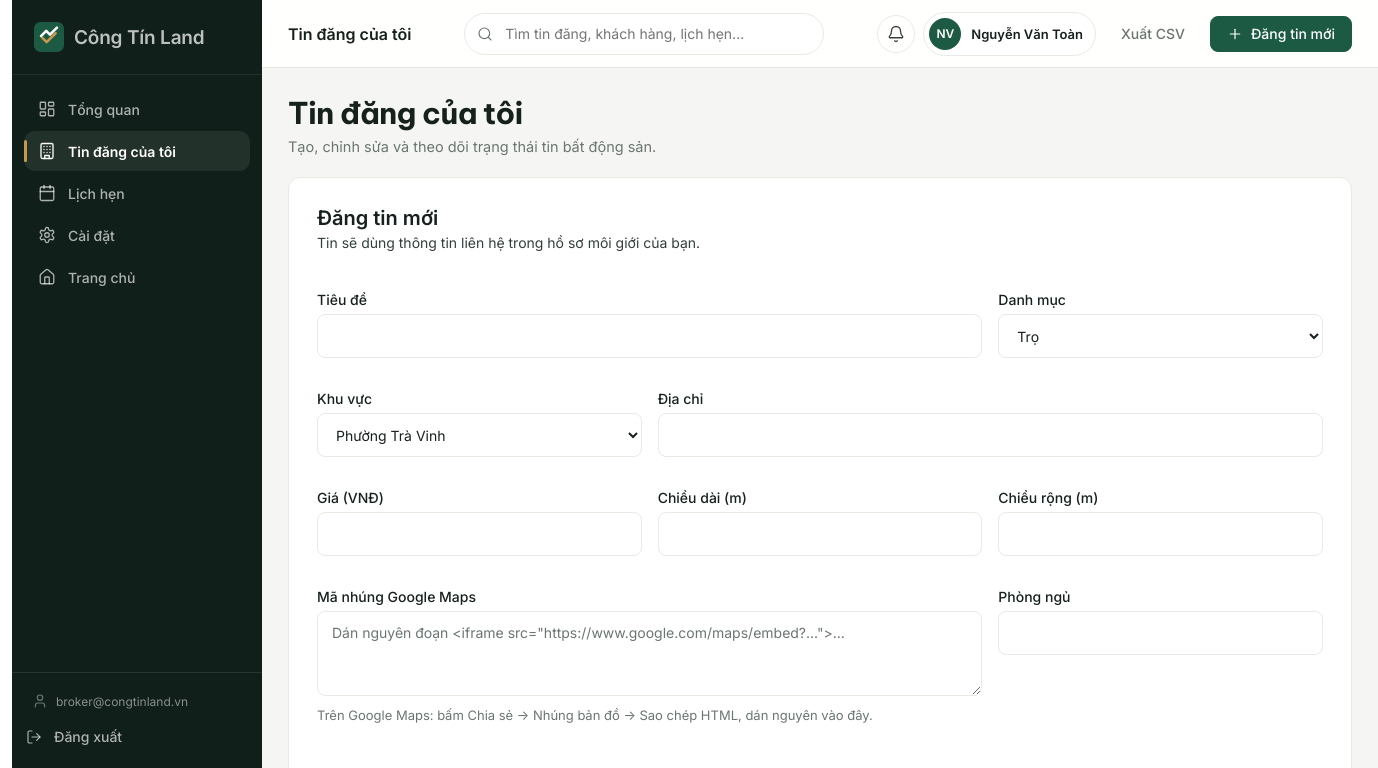
Listing form — field visibility › pasting an invalid embed shows an error and no preview
This screenshot has width=1378, height=768.
In the text box named "Mã nhúng Google Maps": (650, 654) 317,611 -> 982,696, type "not an iframe"
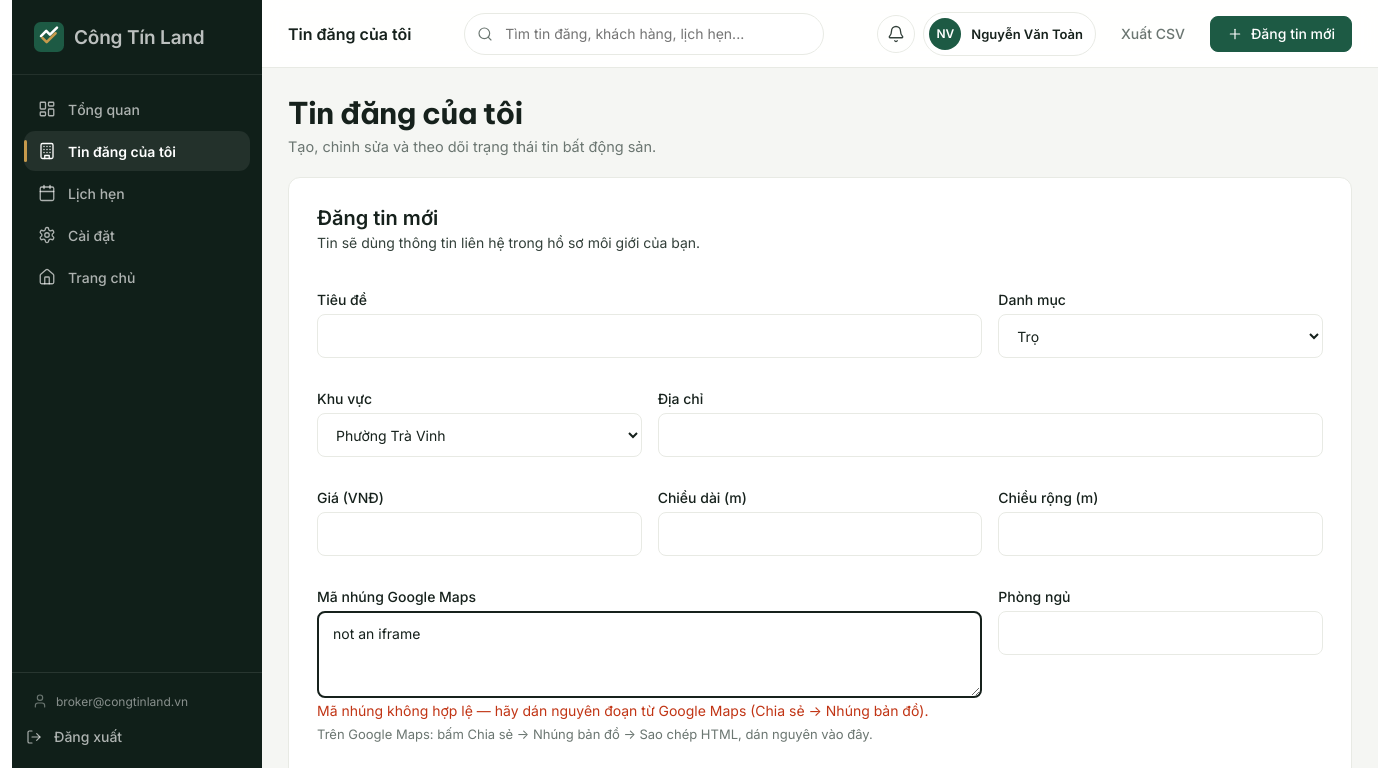
expect the text "Mã nhúng không hợp lệ — hãy dán nguyên đoạn từ Google Maps (Chia sẻ → Nhúng bản đồ)." is shown: met, box 317,702 -> 928,719
